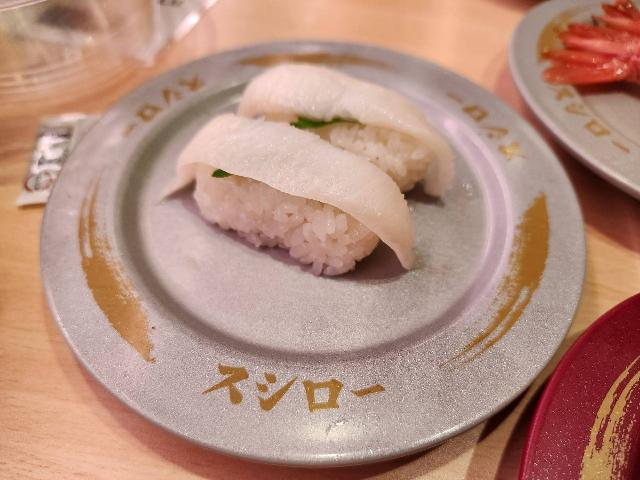janred: (554, 343, 640, 472)
janwhite: (43, 60, 564, 373), (531, 2, 640, 183)
